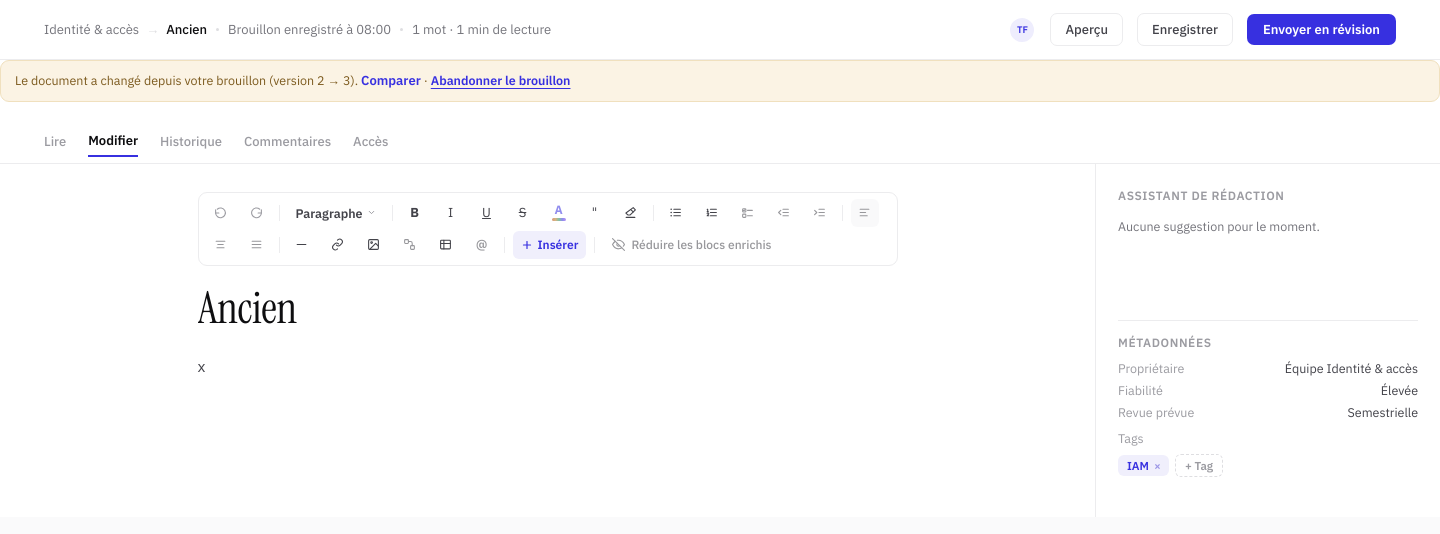
Test case: DocumentEditPage — brouillon et version explicite › « Abandonner le brouillon » : DELETE puis contenu publié rechargé
Click the button with test id "edit-draft-abandon". click: (501, 80)
box: left=431, top=71, right=570, bottom=90
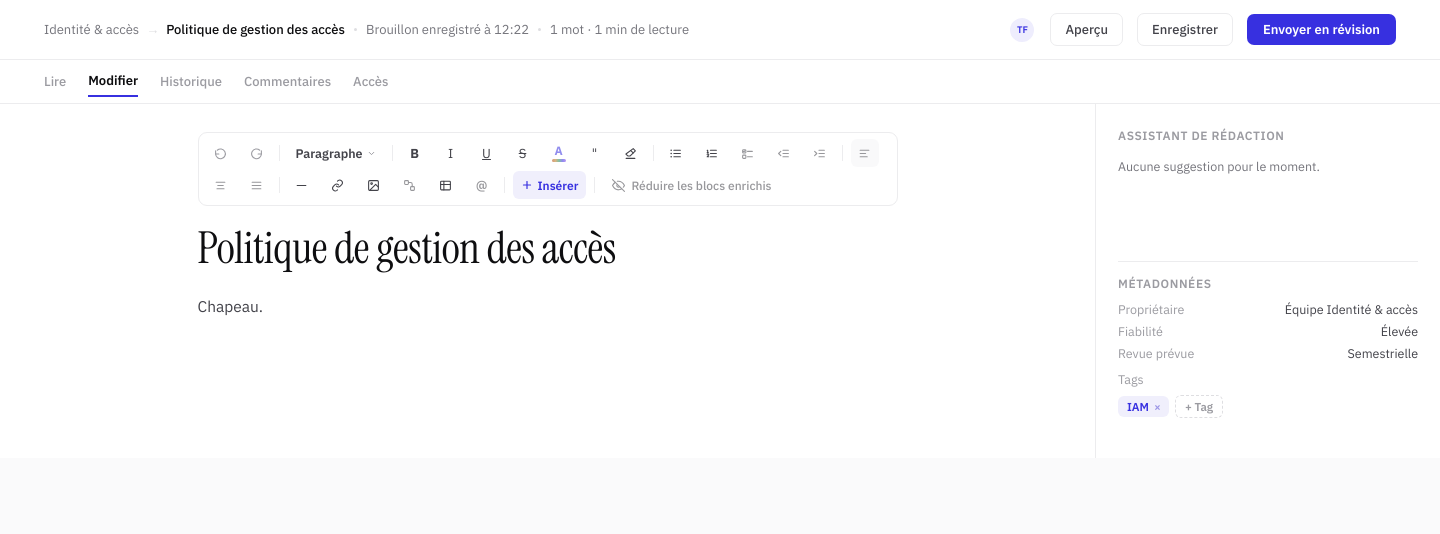
Now the text box showing "Politique de gestion des accès" is shown, box left=198, top=224, right=898, bottom=273
Now the message with test id "edit-draft-stale-banner" is gone
